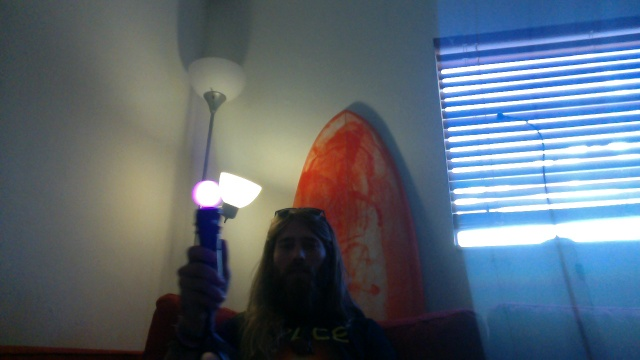wand: (192, 182, 221, 208)
